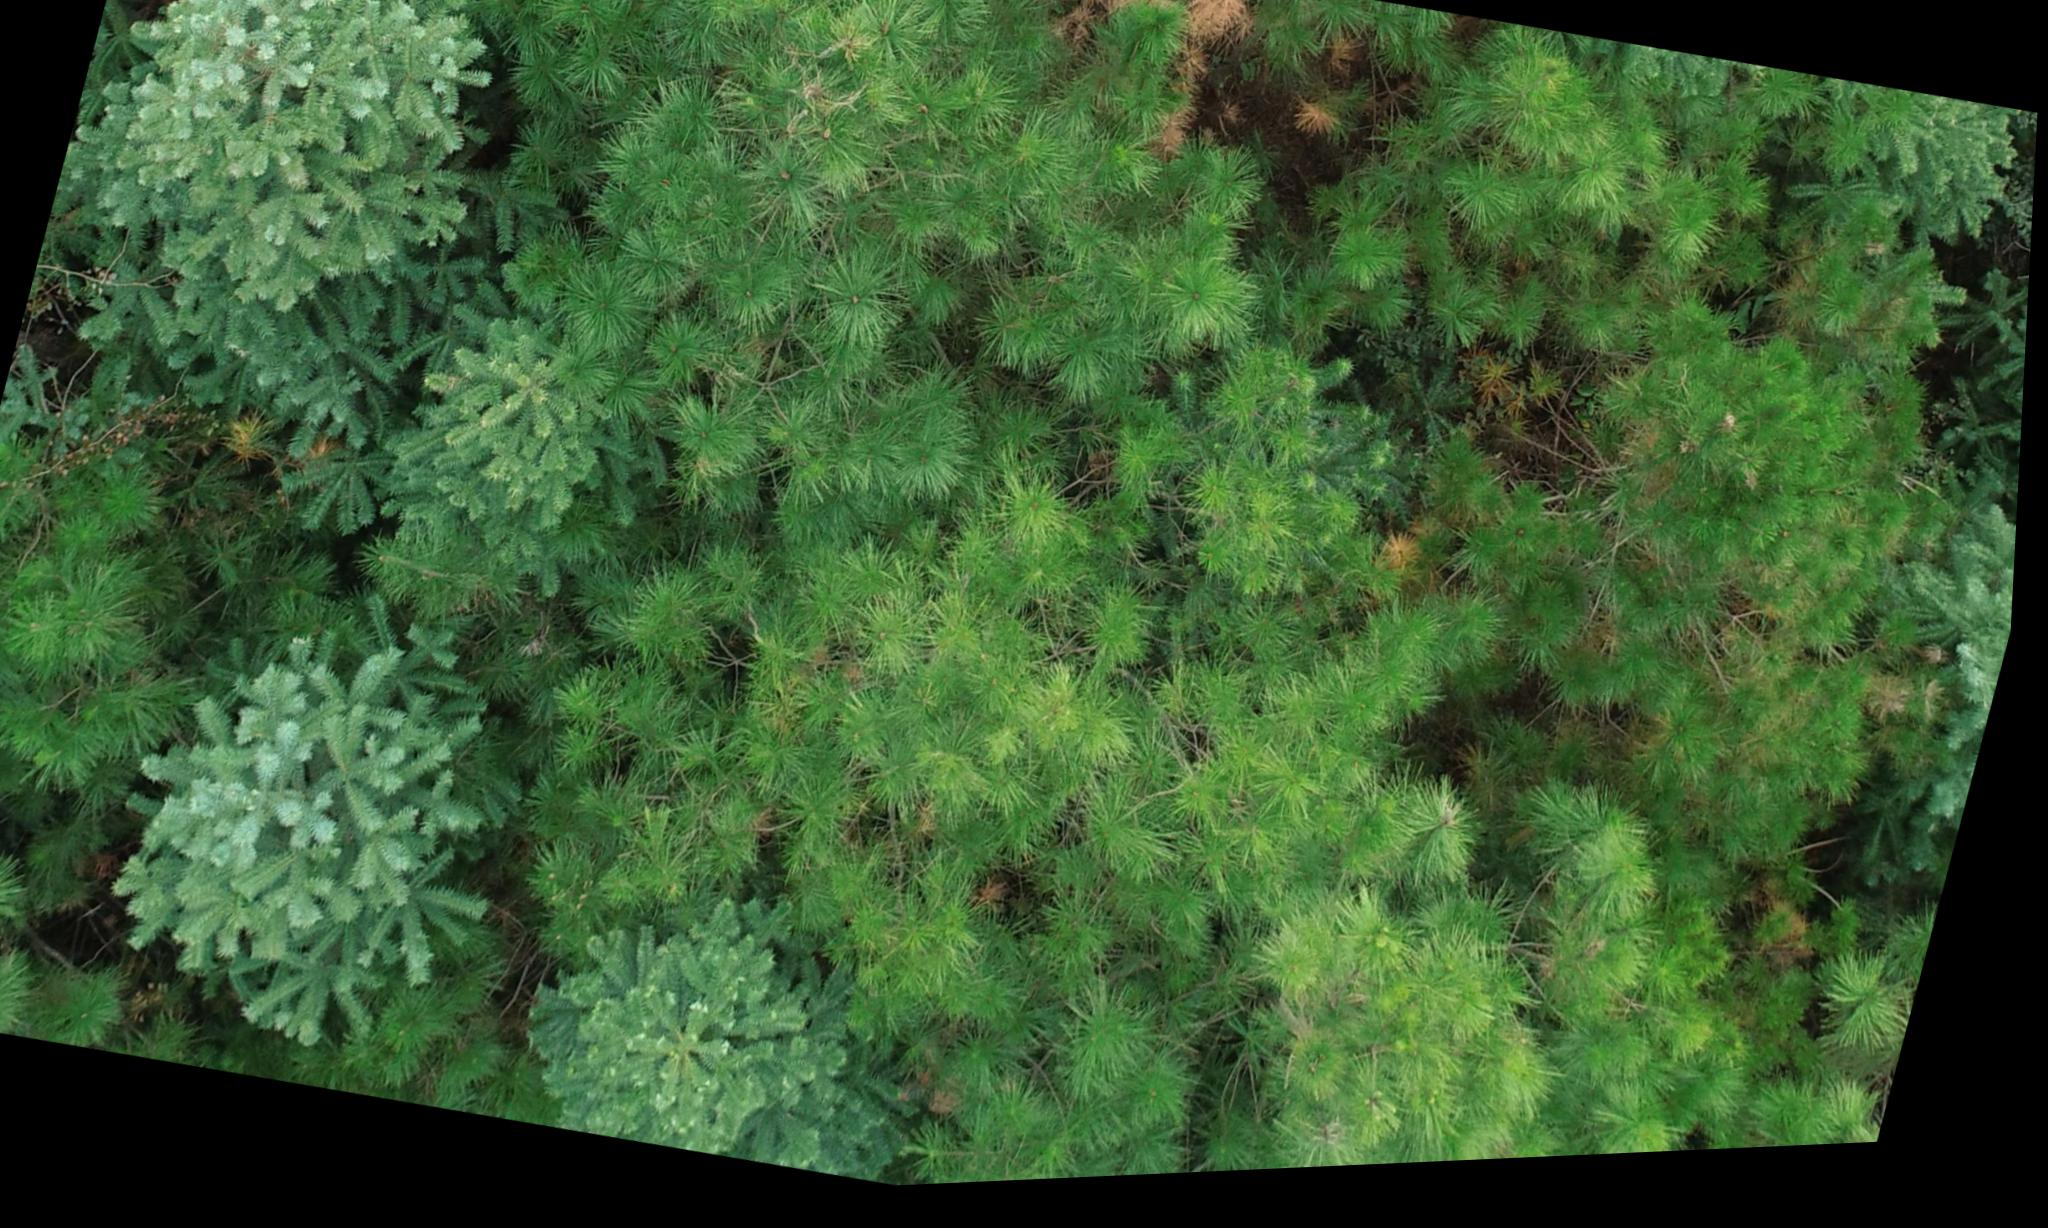heavy: (930, 0, 1267, 60)
